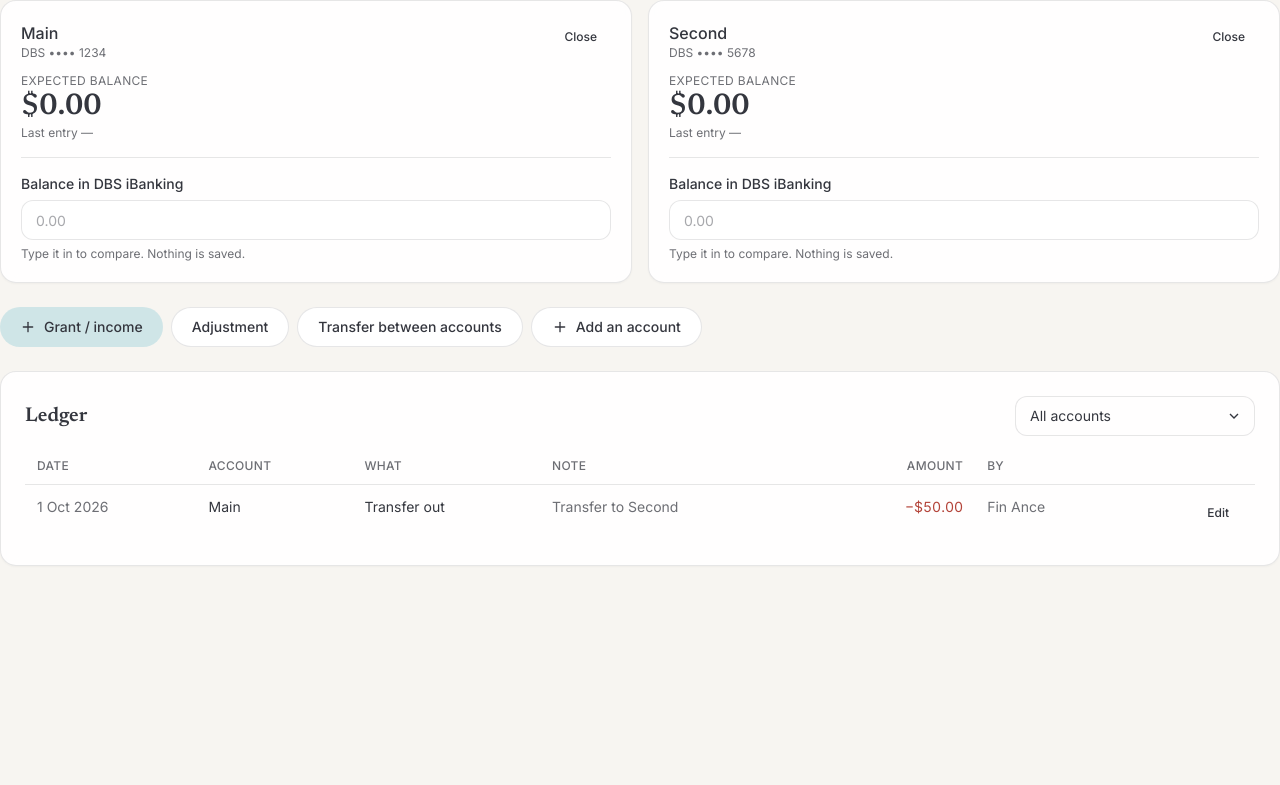
editing a ledger entry › keeps an opening balance and a transfer on their accounts
What coordinates should you click on to do the following:
click the button "Edit"
I would click on:
 (1218, 513)
Its box is [1193,497,1243,529].
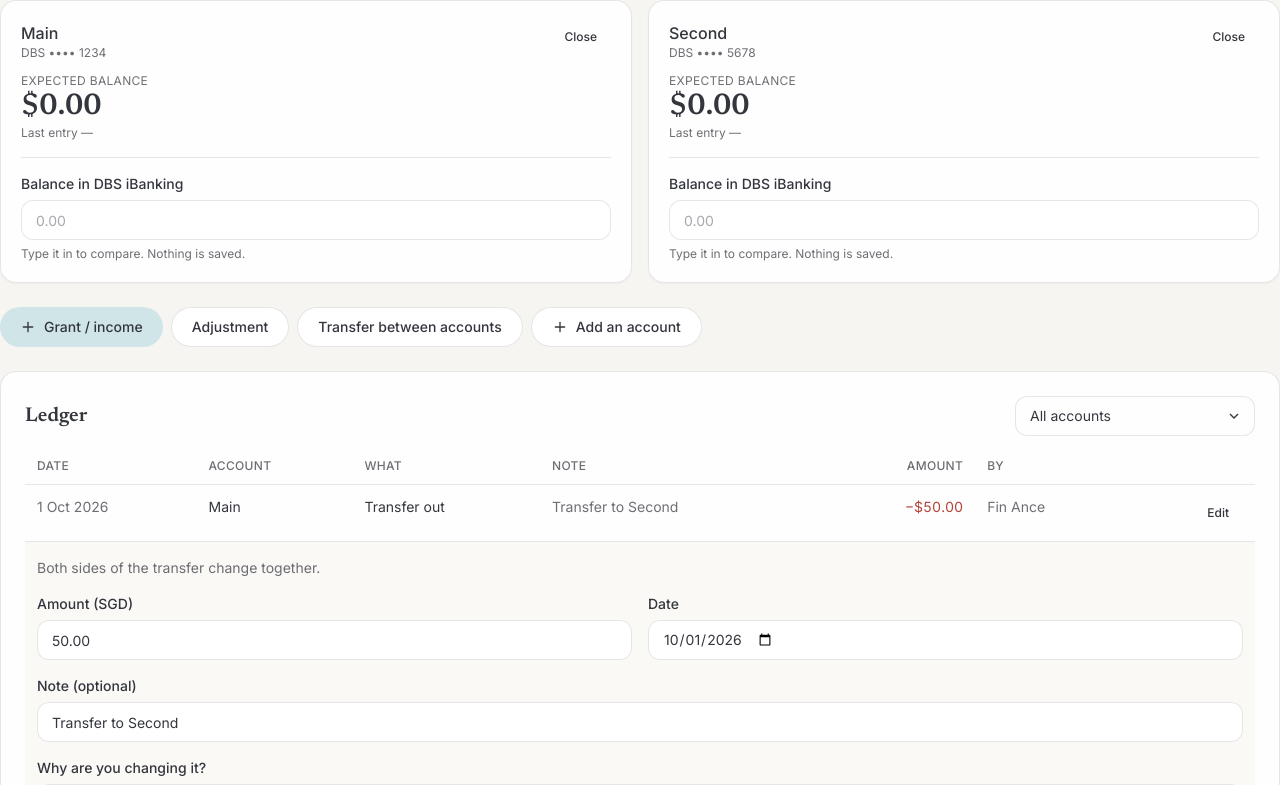
Result: the text "Both sides of the transfer change together." is shown at [37,559,320,576]
